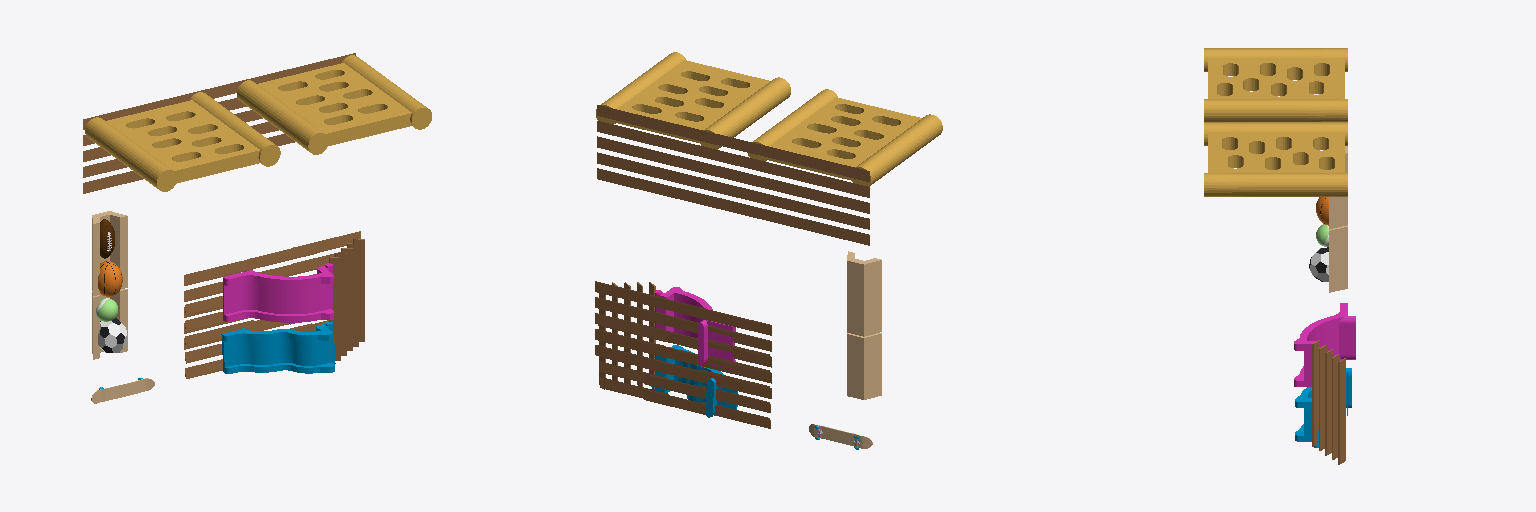
File: tinker.obj
The picture shows the model from 3 angles: view 1: azimuth 30°, elevation 25°; view 2: azimuth 150°, elevation 25°; view 3: azimuth 270°, elevation 25°; orthographic projection.
Parts seen in each view (by area): view 1: obj_0; view 2: obj_0; view 3: obj_0.
Part boxes in pixels (left/top/right/bottom): obj_0: left=83, top=53, right=431, bottom=403; obj_0: left=595, top=52, right=942, bottom=449; obj_0: left=1204, top=48, right=1355, bottom=464.
Bounding box in the file's own units: 201 × 200 × 95.